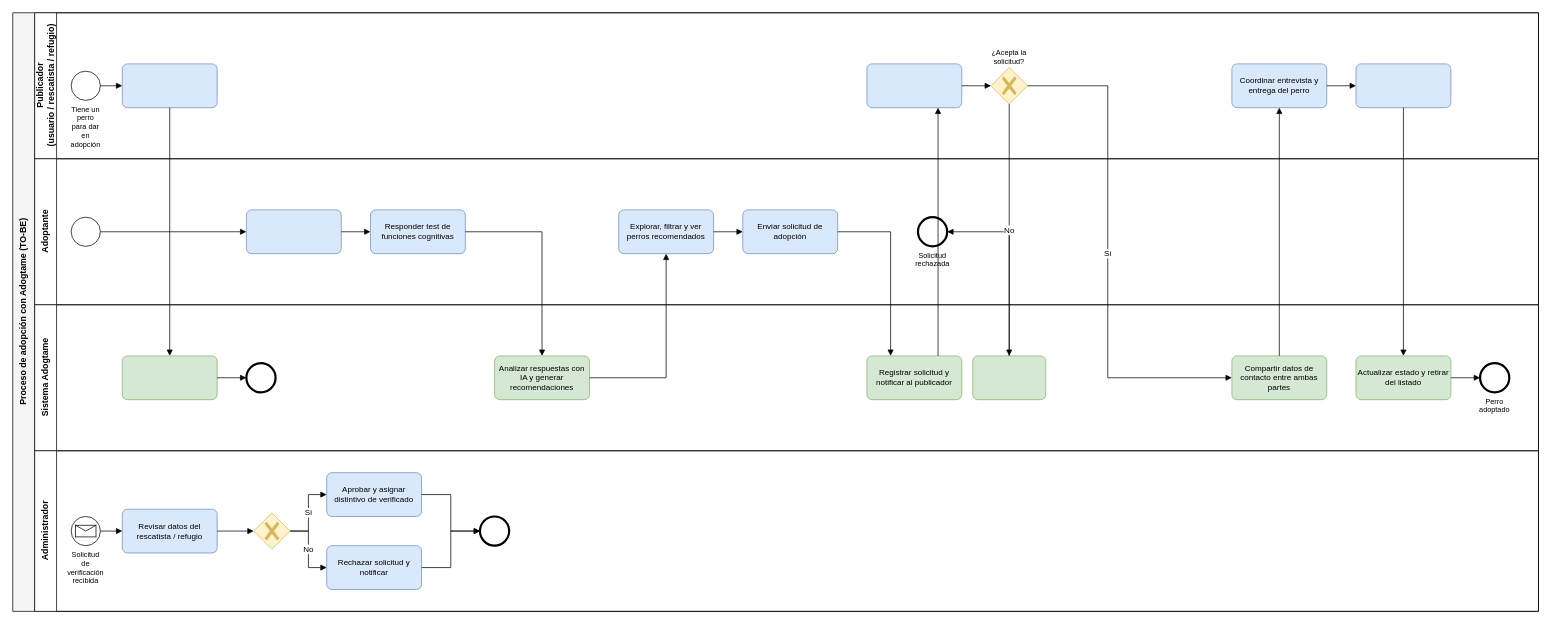
Image size: 1551x624. Some labels were removed from this diagram. The shapes that lost their labels are listed below. From the top down, each one's centre as x and y in pixels, then its label:
At [169,85]: "Registrar perro en el formulario".
At [914,85]: "Revisar solicitud y perfil del adoptante".
At [1403,85]: "Marcar perro como adoptado".
At [85,231]: "Desea adoptar un perro".
At [293,231]: "Registrarse / iniciar sesión".
At [169,377]: "Validar datos y publicar perro en el listado".
At [261,377]: "Perro visible".
At [1009,377]: "Notificar rechazo al adoptante".
At [271,530]: "¿Cumple requisitos?".
At [494,531]: "Verificación resuelta".
